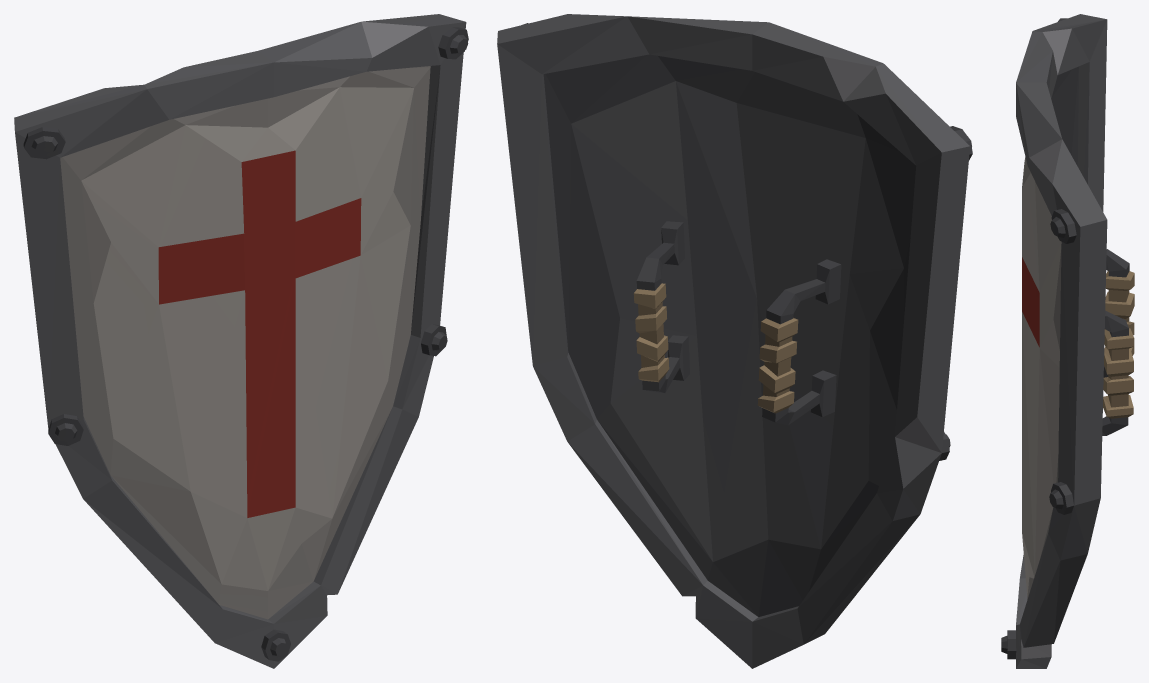
The model's file is SM_Wep_Shield_04.gltf.
3 views of the same model, side by side, from view 1: azimuth 30°, elevation 25°; view 2: azimuth 150°, elevation 25°; view 3: azimuth 270°, elevation 25° (orthographic). The views are drawn at different scales.
Parts seen in each view (by area): view 1: SM_Wep_Shield_04; view 2: SM_Wep_Shield_04; view 3: SM_Wep_Shield_04.
Boxes of the visible parts, bbox=[...] form: SM_Wep_Shield_04: bbox=[14, 14, 468, 668]; SM_Wep_Shield_04: bbox=[497, 14, 972, 668]; SM_Wep_Shield_04: bbox=[1001, 14, 1134, 668].
Size of the model in its own units: 0.5314 by 0.6822 by 0.1409.
Materials: 1 (1 with a texture image).
